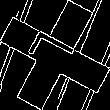L_SE: (26, 30, 84, 80)
